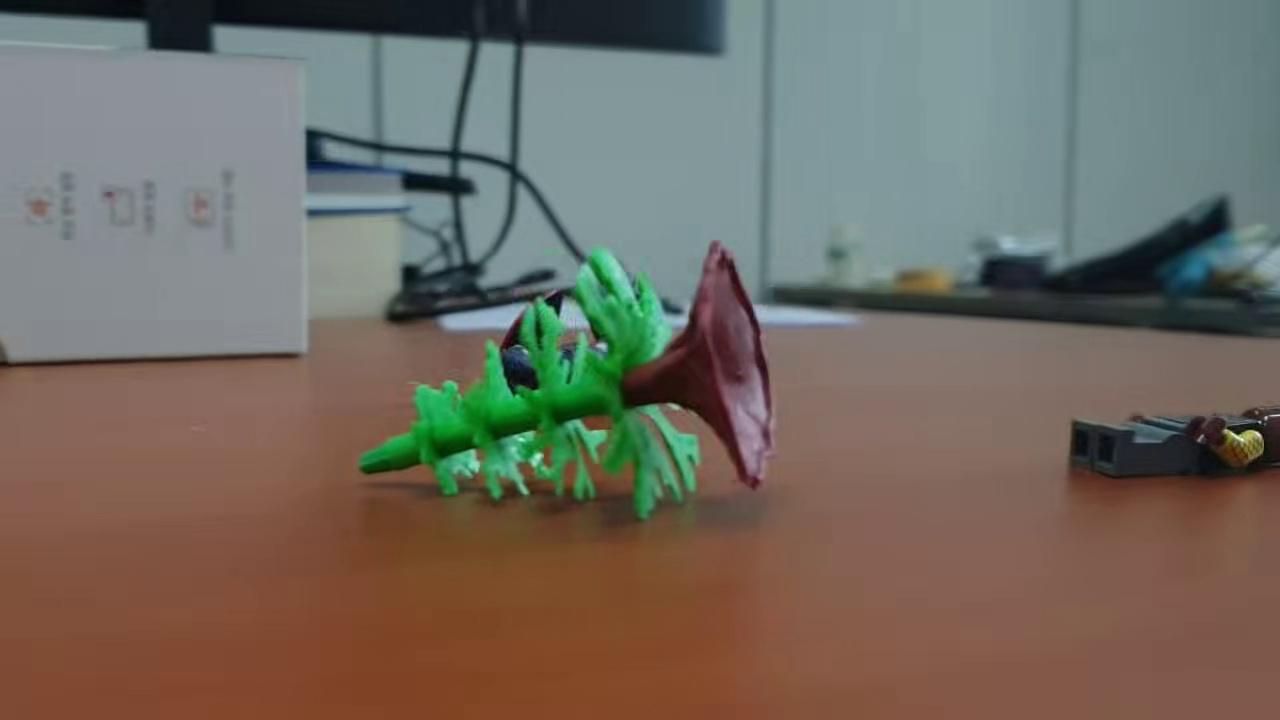people: (1061, 405, 1280, 485)
tree: (358, 237, 780, 528)
